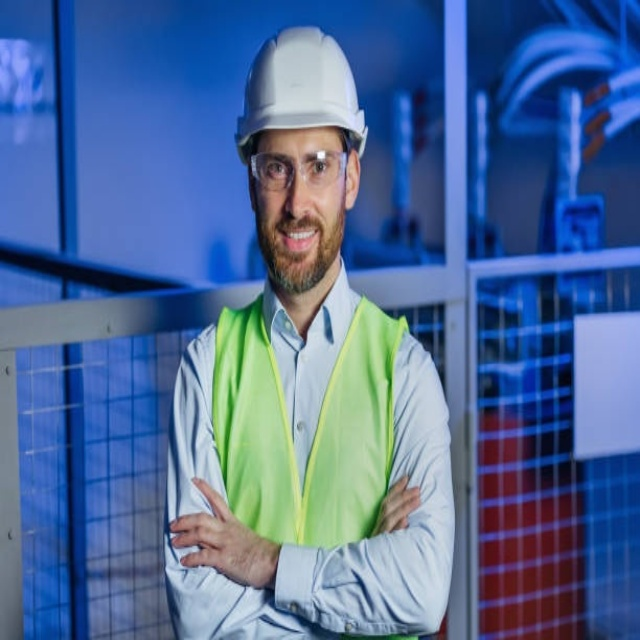Gafas: (250, 147, 350, 187)
Sin_guantes: (170, 475, 278, 591), (371, 472, 421, 538)
Sin_mascara: (272, 216, 323, 268)
